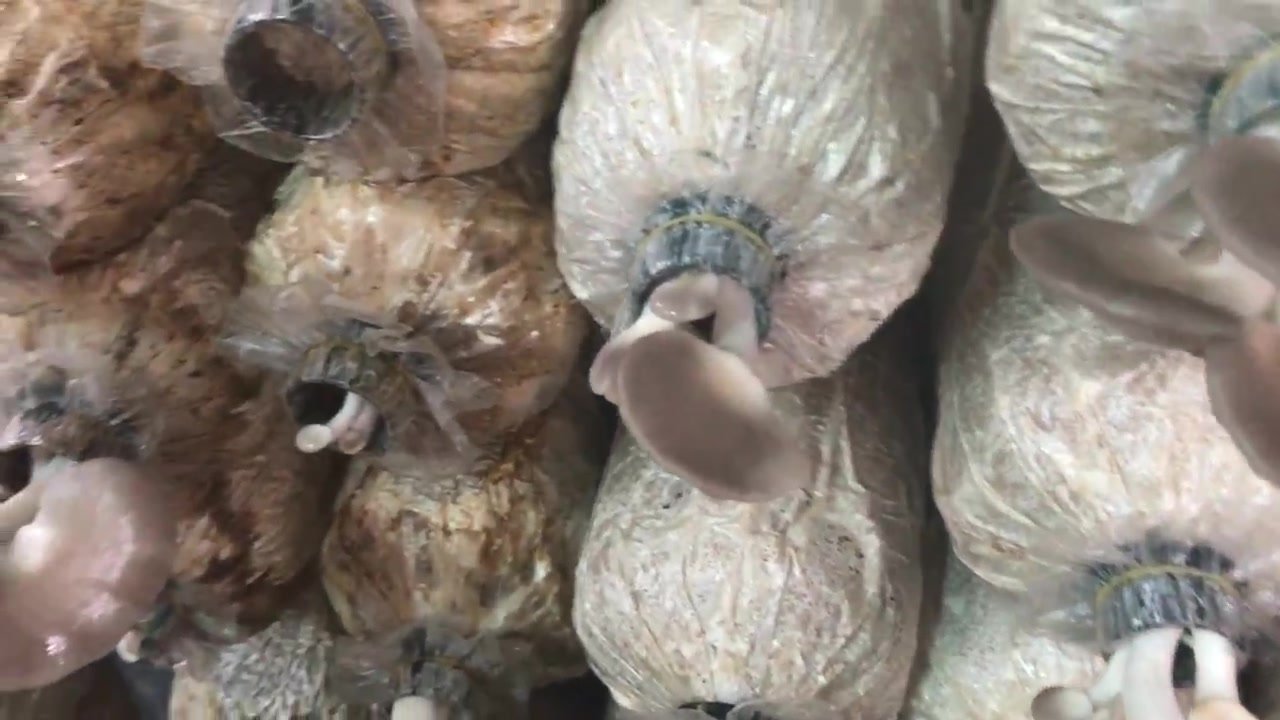nam: (1006, 134, 1280, 484), (588, 209, 814, 503), (1, 414, 174, 691), (288, 348, 410, 456)
